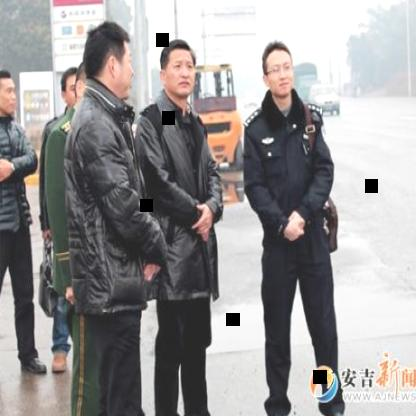head: (82, 21, 132, 102), (157, 34, 199, 102), (258, 36, 298, 102), (0, 63, 21, 118), (60, 68, 84, 112)
